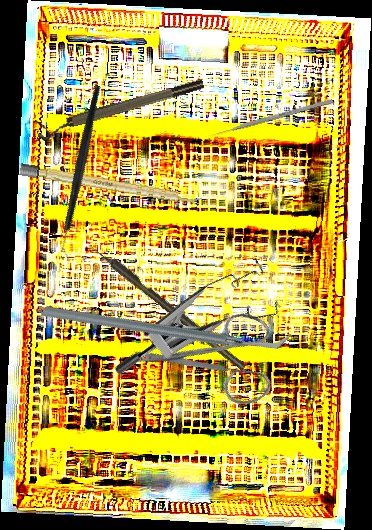Chopper: (40, 216, 292, 435), (7, 83, 158, 263)
Fixation Ring: (33, 76, 208, 143)
Hook Surgical: (86, 239, 248, 373)
Iris Scissors: (126, 278, 301, 448)
Pusher: (206, 98, 334, 139)
Scalpel Handle: (18, 163, 203, 207)
Speculum: (111, 235, 296, 428)
